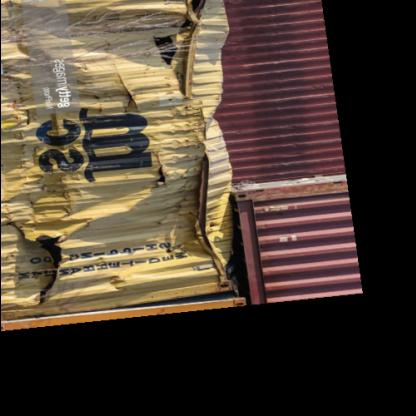Damage: (14, 154, 98, 312), (156, 145, 236, 280), (154, 3, 232, 100), (4, 47, 42, 141), (118, 66, 144, 116), (108, 266, 136, 300)
